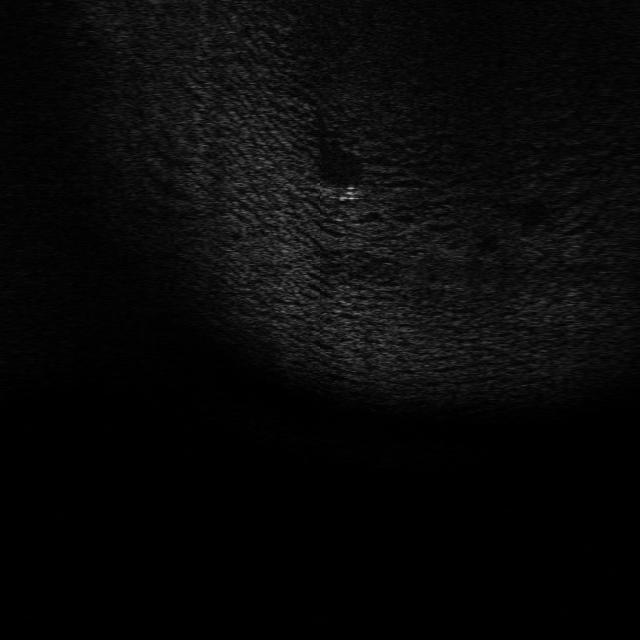plane: (313, 178, 361, 202)
